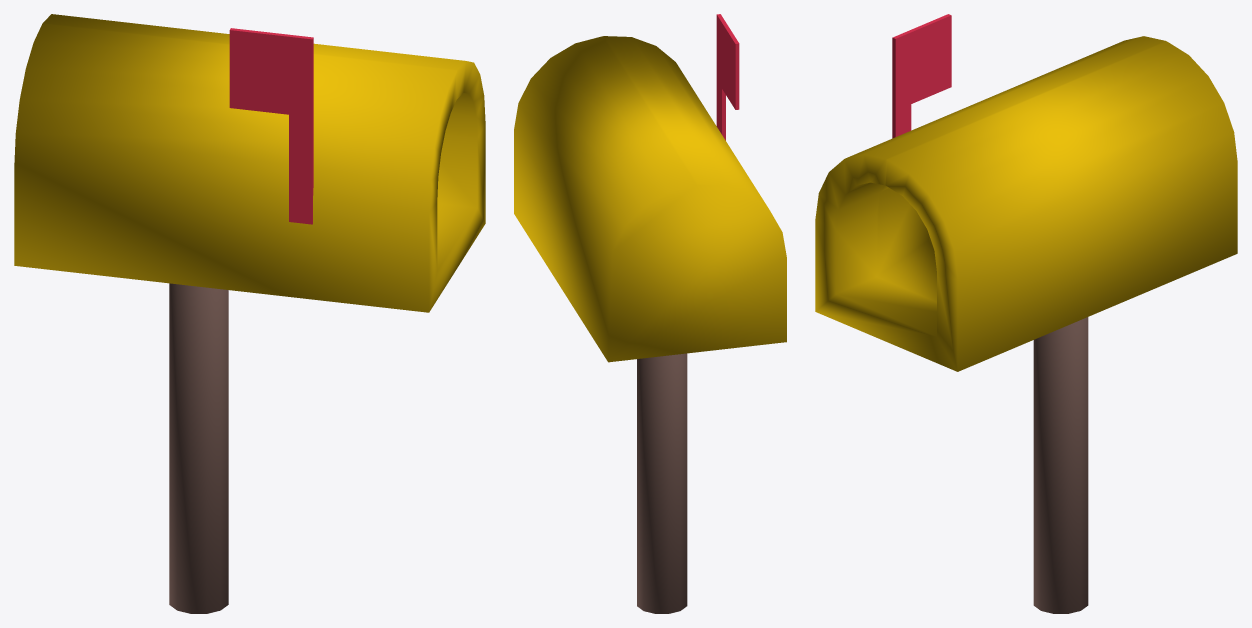
File: Alarm.glb
3 views of the same model, side by side, from view 1: azimuth 30°, elevation 25°; view 2: azimuth 150°, elevation 25°; view 3: azimuth 270°, elevation 25° (orthographic). The views are drawn at different scales.
Visible parts, largest first — view 1: Plane.351; view 2: Plane.351; view 3: Plane.351.
Part boxes in pixels (x1,y1,x2,y2): Plane.351: (14,14,485,613); Plane.351: (514,14,786,613); Plane.351: (815,14,1237,613).
Size of the model in its own units: 0.3347 by 0.5027 by 0.3347.
